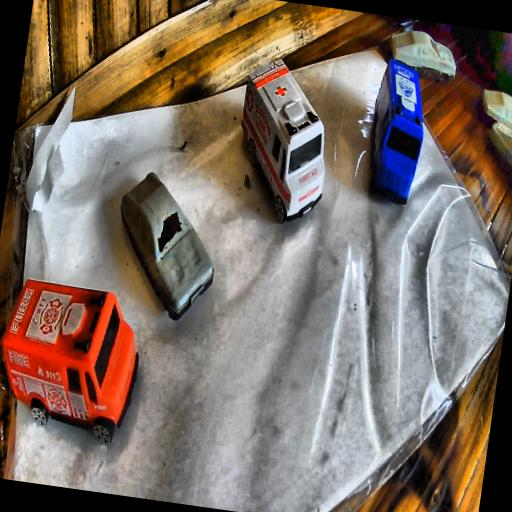ambulance: (228, 50, 338, 228)
fire_truck: (0, 276, 149, 449)
normal_car: (105, 170, 225, 324), (384, 26, 462, 85)
police car: (361, 55, 434, 208)
